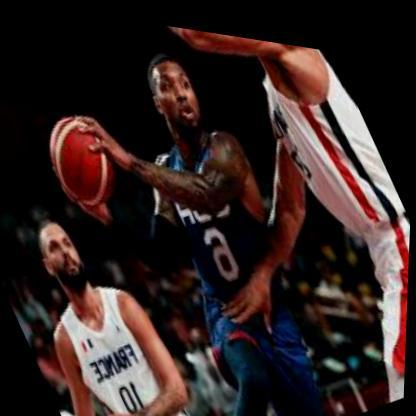basketball: (36, 100, 133, 218)
